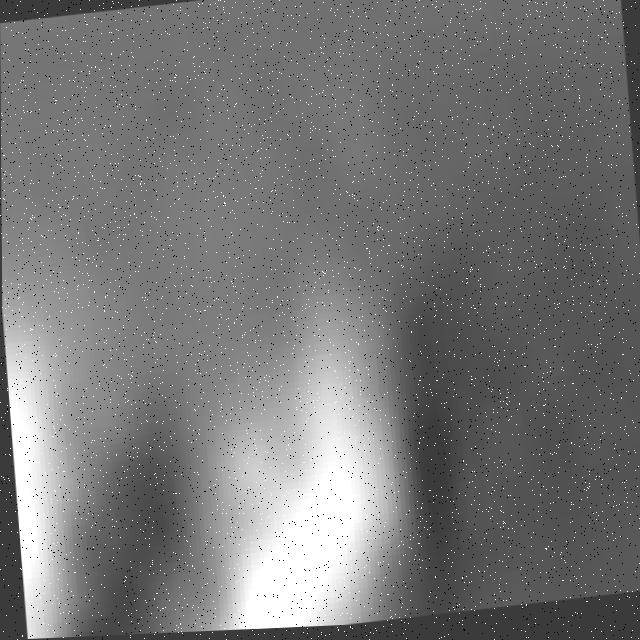person: (181, 224, 422, 635), (3, 259, 90, 640)
